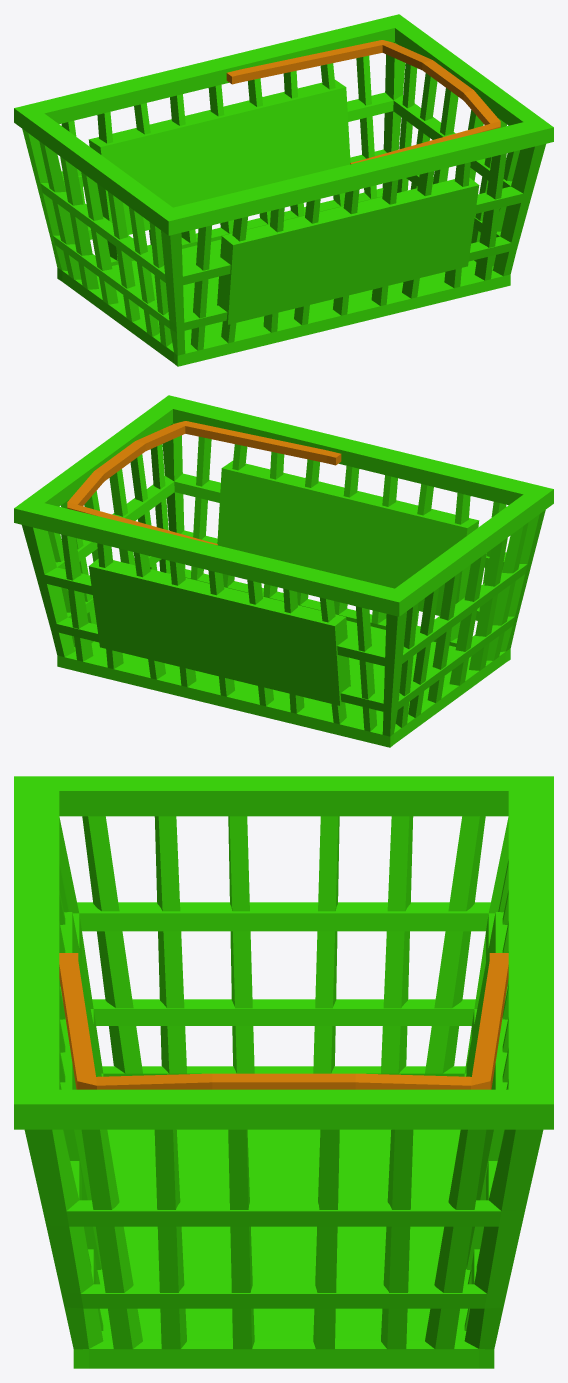
Rendered from Mand.fbx.
The picture shows the model from 3 angles, top to bottom: view 1: azimuth 30°, elevation 25°; view 2: azimuth 150°, elevation 25°; view 3: azimuth 270°, elevation 25°; orthographic projection. The views are drawn at different scales.
Parts seen in each view (by area): view 1: Mand, Mand Handle; view 2: Mand, Mand Handle; view 3: Mand, Mand Handle.
Part boxes in pixels (bbox=[...]): Mand: bbox=[14, 14, 553, 366]; Mand Handle: bbox=[226, 40, 500, 164]; Mand: bbox=[14, 395, 553, 747]; Mand Handle: bbox=[67, 421, 341, 545]; Mand: bbox=[14, 776, 553, 1368]; Mand Handle: bbox=[59, 953, 508, 1089].
Size of the model in its own units: 49.84 by 20.48 by 34.67.
